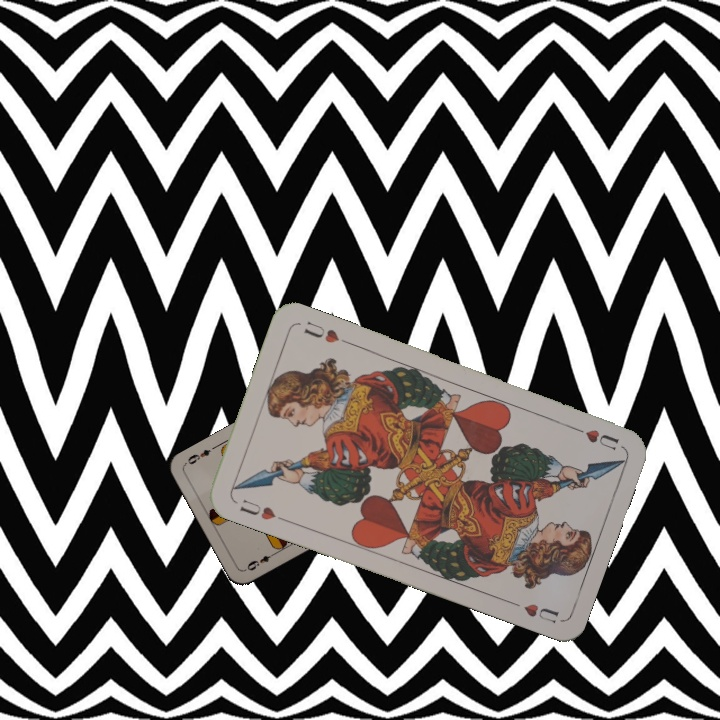E9: (241, 548, 279, 573)
HU: (567, 422, 622, 453), (236, 495, 279, 523)
